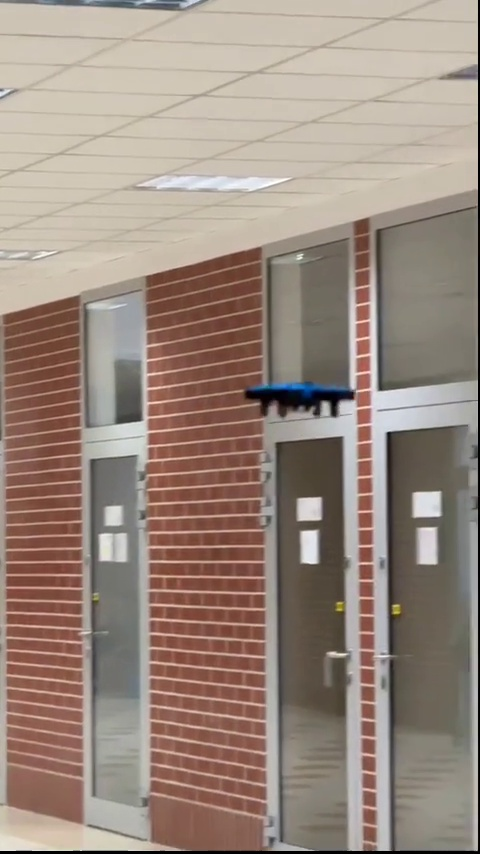drone: (241, 380, 358, 418)
